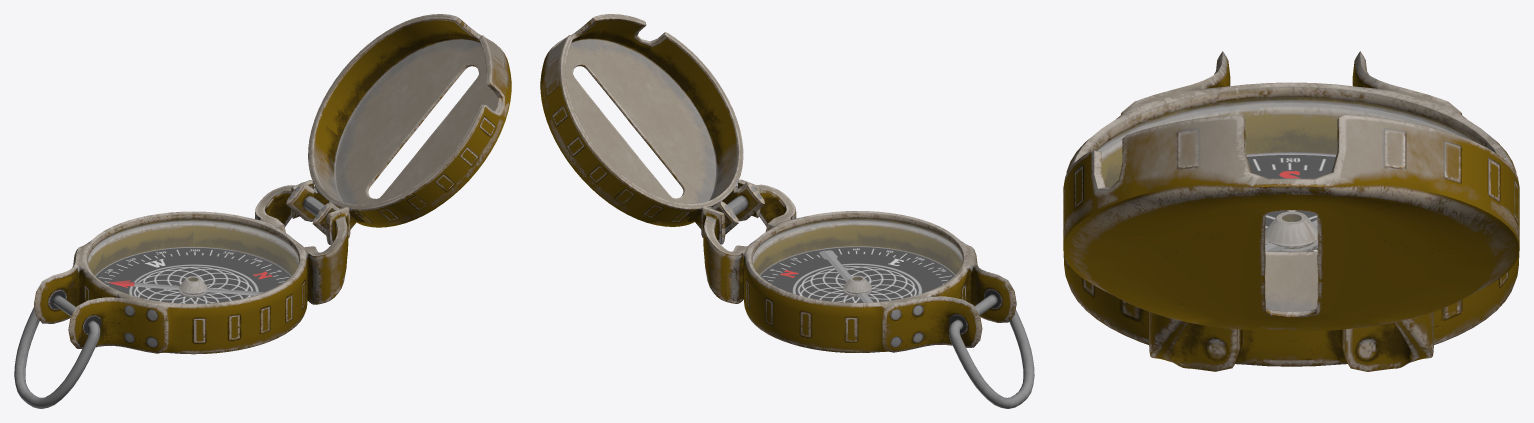
Rendered from antique_military_compass_usaf_ww2_era.glb.
The picture shows the model from 3 angles, left to right: view 1: azimuth 30°, elevation 25°; view 2: azimuth 150°, elevation 25°; view 3: azimuth 270°, elevation 25°; orthographic projection. The views are drawn at different scales.
Visible parts, largest first — view 1: pCylinder24, pPlane2; view 2: pCylinder24, pPlane2; view 3: pCylinder24.
Part boxes in pixels (x1,y1,x2,y2): pCylinder24: (14,14,511,408); pPlane2: (108,280,263,295); pCylinder24: (540,14,1034,408); pPlane2: (819,250,872,302); pCylinder24: (1063,51,1519,371).
Size of the model in its own units: 826 by 459 by 350.
Materials: 3 (2 with a texture image).
